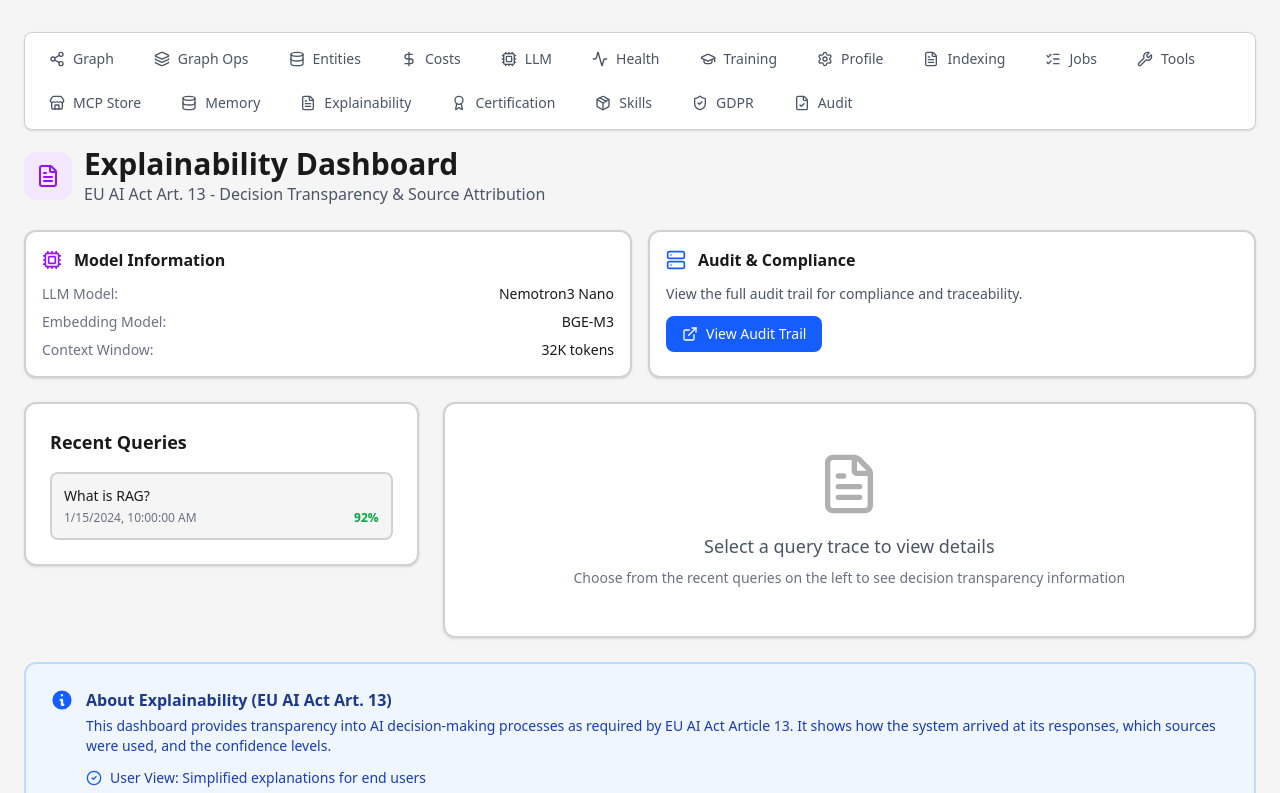
ExplainabilityPage › should load trace details when trace is selected
This screenshot has width=1280, height=793.
Check: the text "What is RAG?" is shown, box [64,486,150,505]
// Click on trace item
Click the button with test id "trace-item-trace-123". click: (107, 496)
box: [50,472,393,540]
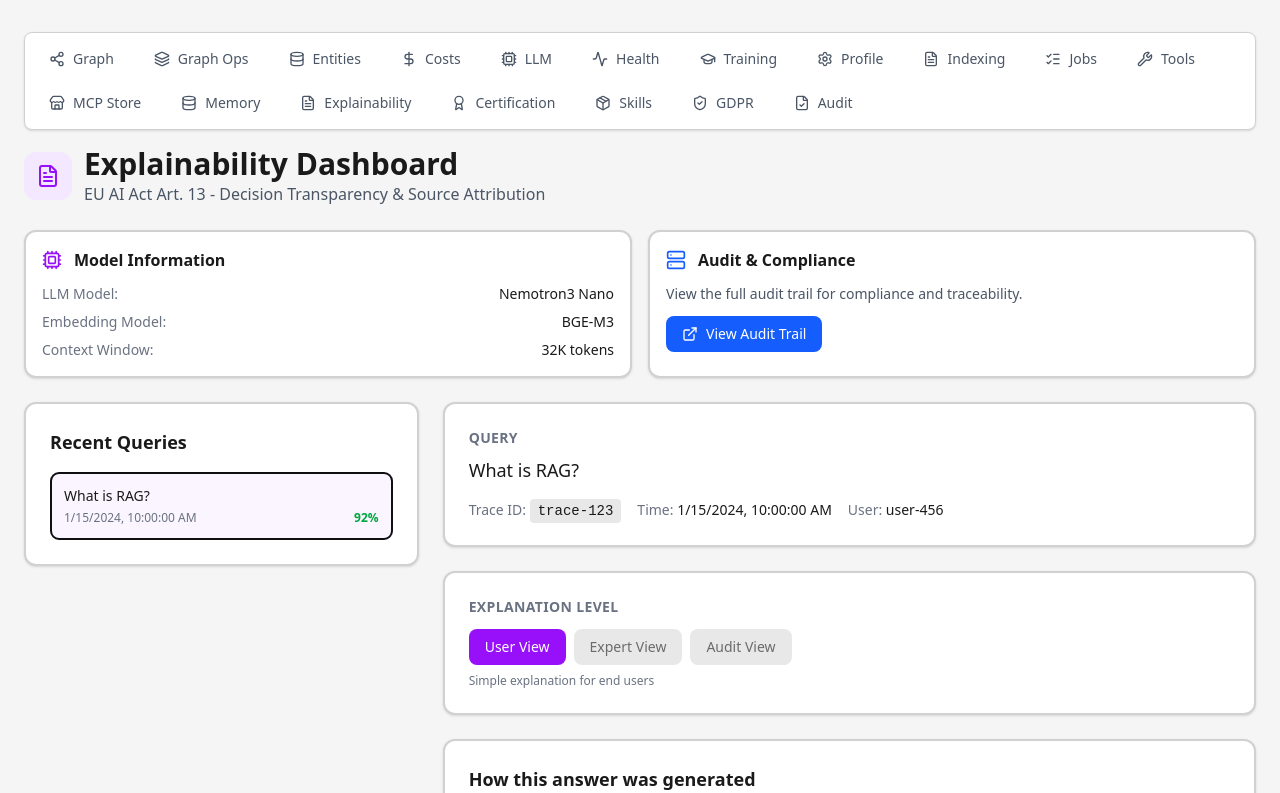
Check: the text "trace-123" is shown, box [530,499,621,523]
